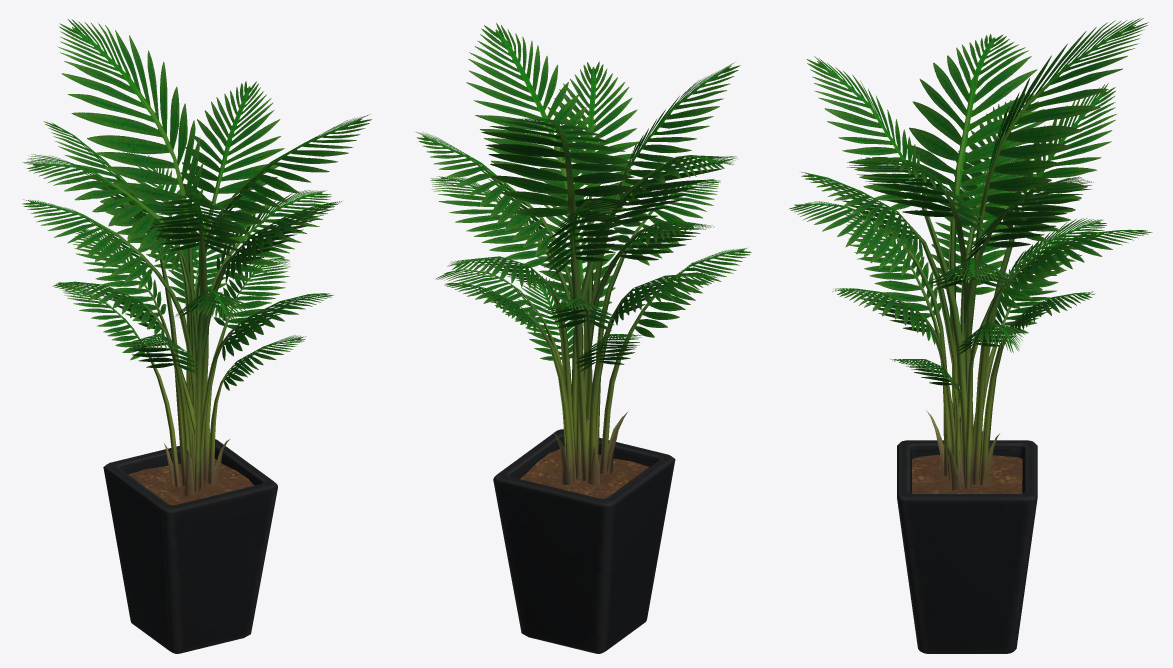
The picture shows the model from 3 angles, left to right: view 1: azimuth 30°, elevation 25°; view 2: azimuth 150°, elevation 25°; view 3: azimuth 270°, elevation 25°; orthographic projection. The views are drawn at different scales.
Size of the model in its own units: 9.7 by 17.08 by 9.68.
2 materials, 2 textured.
